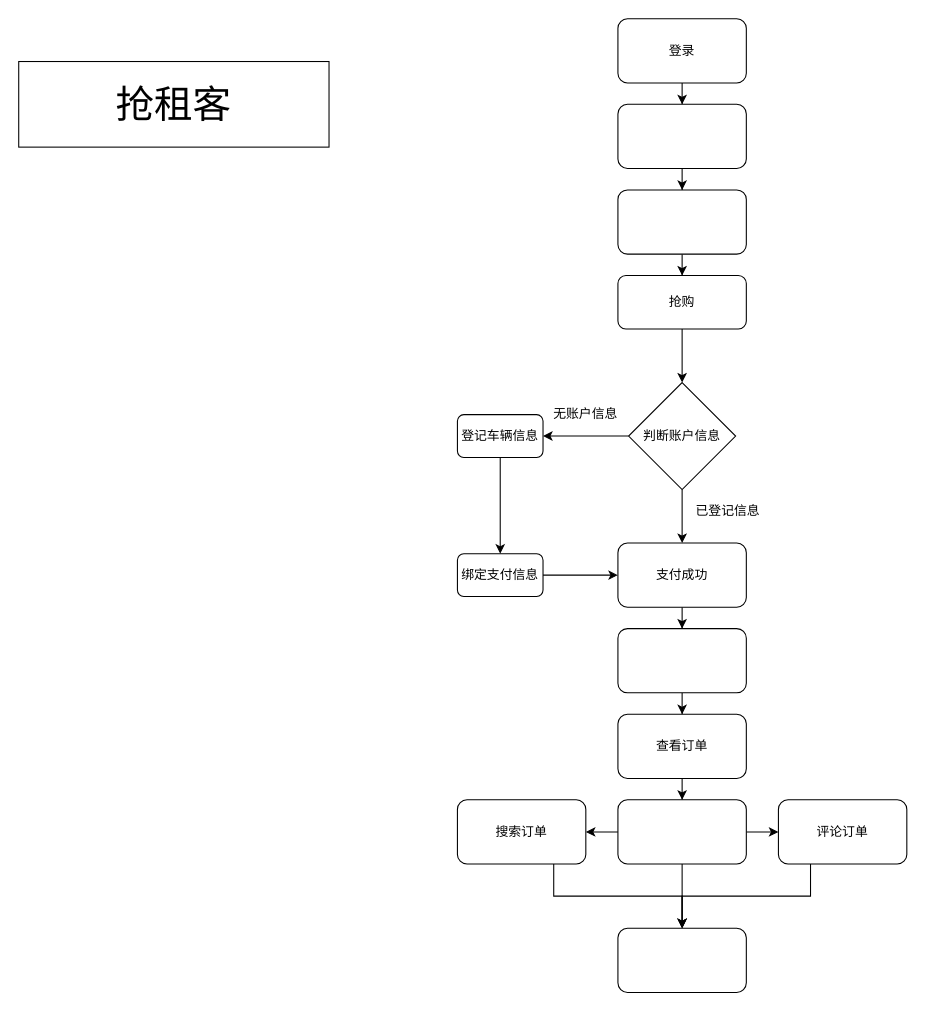
Image size: 926x1011. Some labels were removed from this diagram. The centre of each missing label's shape, as x and y in pixels:
删除订单: pixel 681 959
导航: pixel 681 660
搜索车位: pixel 681 136
查看车位: pixel 681 221
结束订单: pixel 681 831
